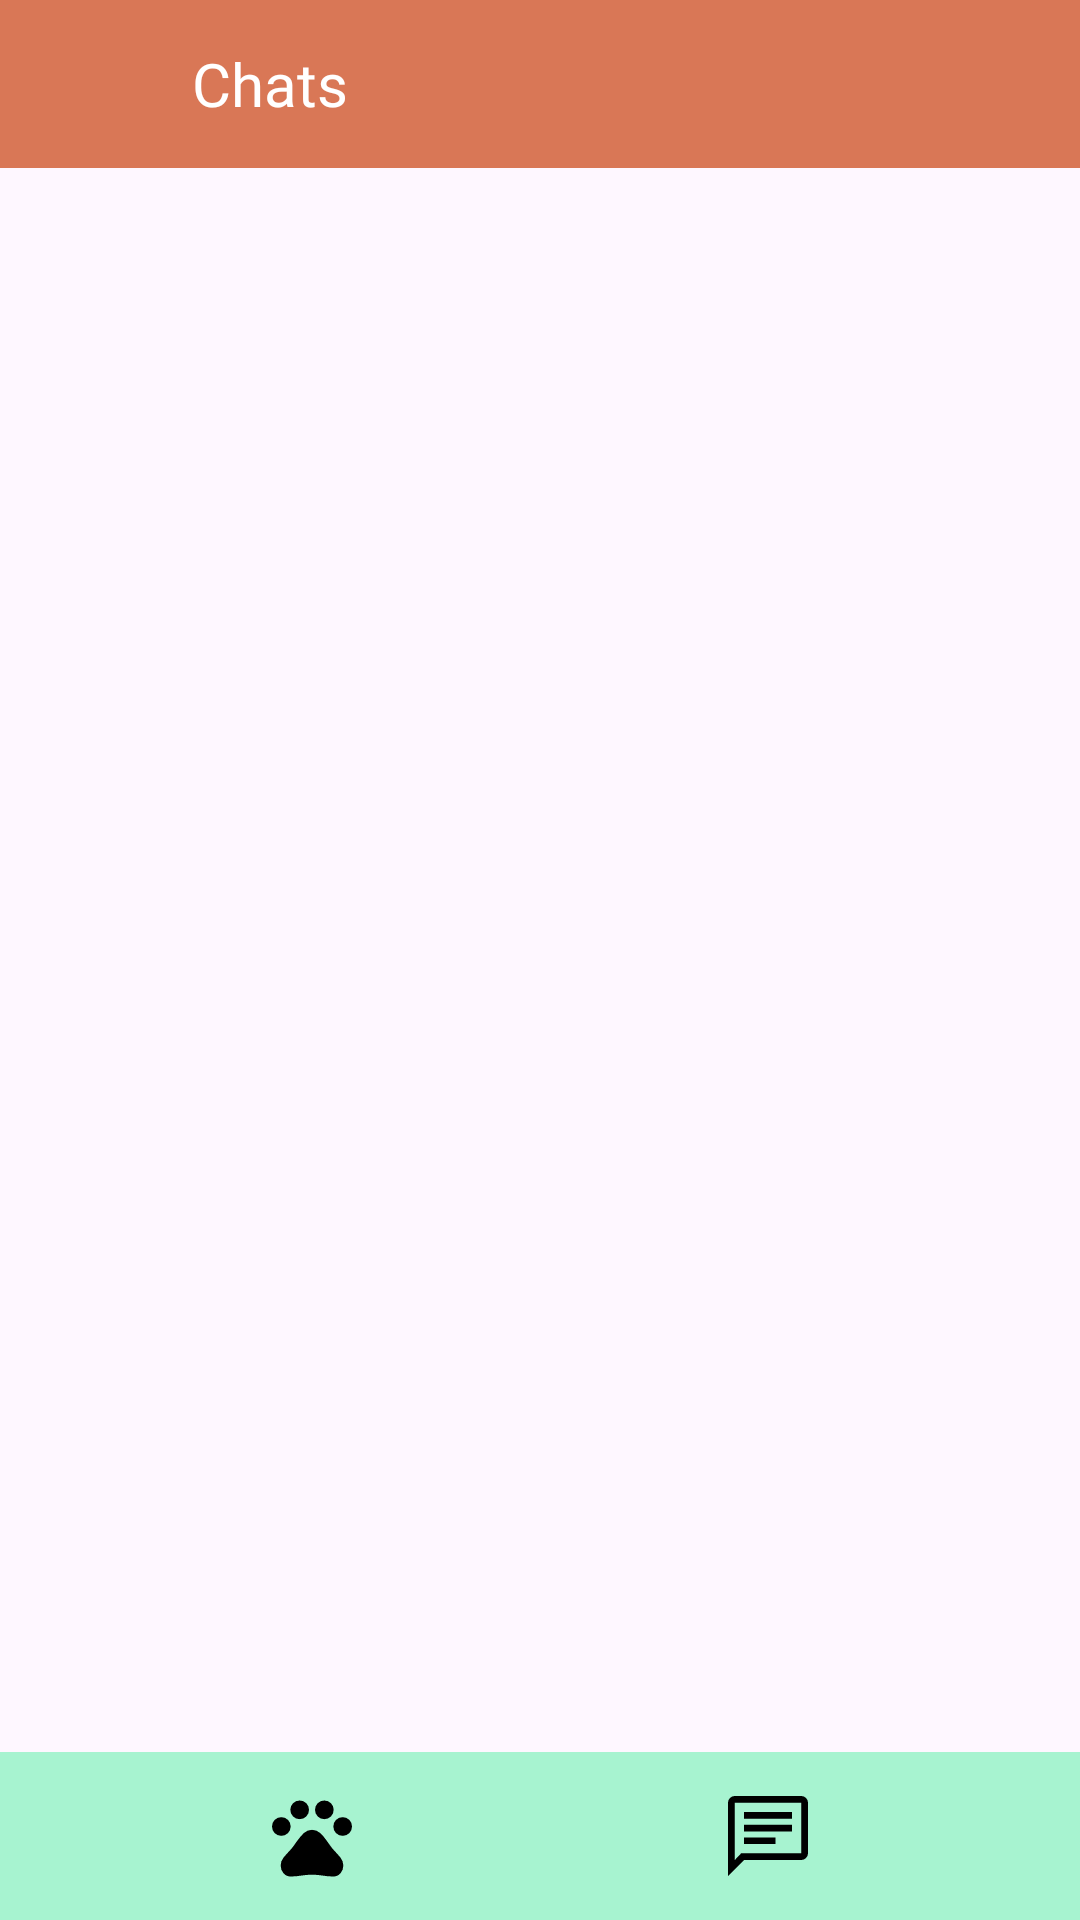

Where icons sit on this 1080w x 1920h app screen, as (x1, y1, x2, y2):
Boton para navegar a "Mis Chats": (728, 1796, 808, 1876)
Boton para navegar a "Mis Mascotas": (272, 1800, 352, 1877)
